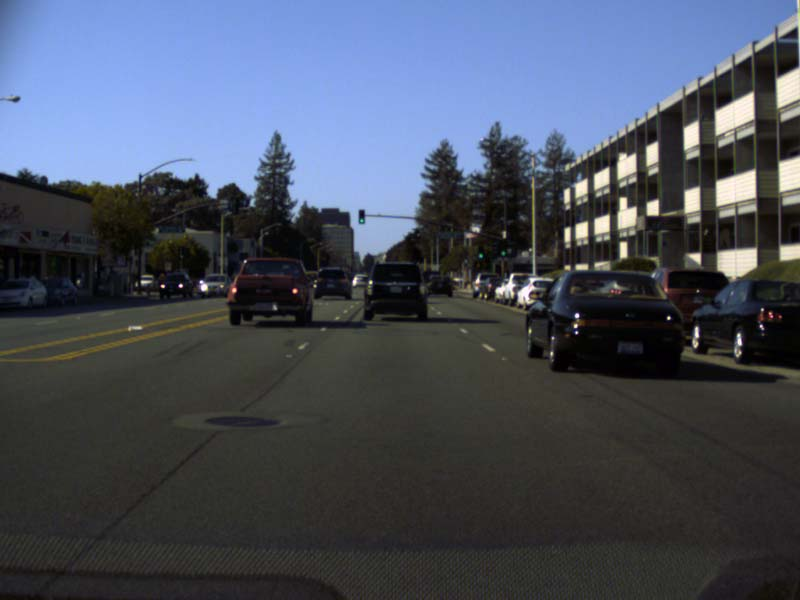Green: (499, 241, 507, 256), (358, 209, 364, 223), (478, 246, 483, 259), (178, 247, 183, 260)
